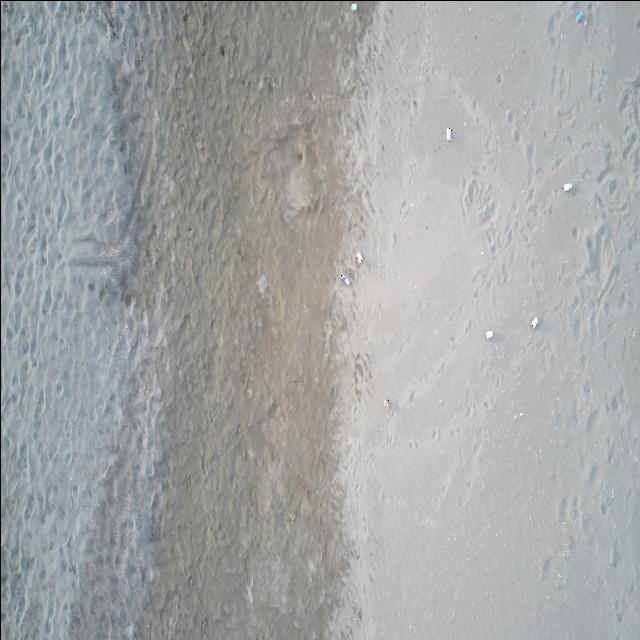Garbage: (575, 11, 584, 22), (355, 251, 363, 263), (340, 273, 348, 284), (484, 329, 492, 339), (563, 183, 572, 191), (446, 128, 452, 140), (383, 399, 390, 409), (531, 316, 537, 327), (351, 3, 356, 12)
